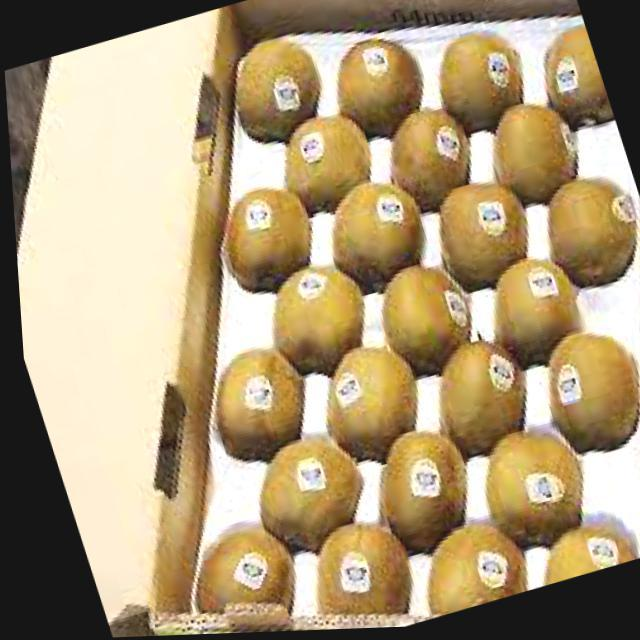kiwi: (229, 421, 366, 554), (529, 315, 640, 468), (284, 519, 421, 633), (415, 334, 534, 465), (364, 421, 476, 555), (534, 164, 640, 300), (253, 260, 373, 378), (212, 173, 320, 296), (403, 508, 523, 618), (476, 251, 591, 362), (221, 33, 332, 146), (423, 23, 533, 133), (375, 100, 479, 214), (270, 111, 380, 213), (520, 29, 611, 141), (199, 365, 305, 437), (331, 343, 390, 458), (176, 550, 284, 596), (372, 295, 464, 337), (490, 140, 582, 182), (512, 433, 545, 543), (330, 65, 413, 104), (467, 189, 497, 290), (361, 190, 388, 280)
